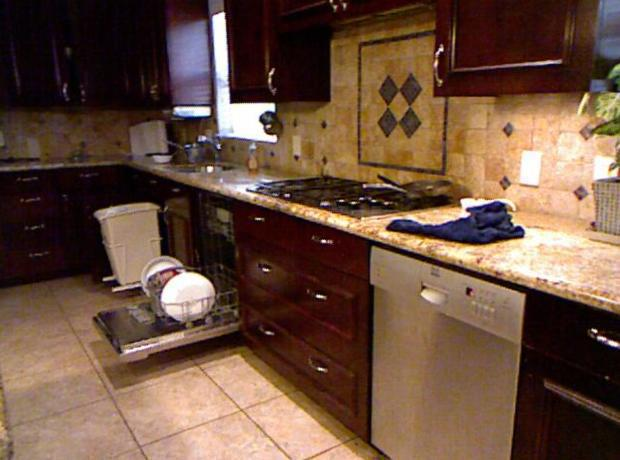Bote de Basura: (95, 193, 167, 294)
Electrodomestico: (90, 201, 240, 384)
Lavaplatos: (158, 124, 245, 176)
